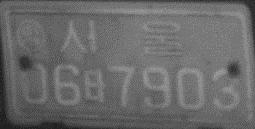0: (175, 66, 205, 110), (21, 60, 48, 105)
3: (211, 67, 241, 113)
6: (52, 63, 81, 107)
7: (108, 64, 134, 108)
9: (142, 65, 172, 110)
서울_D: (59, 18, 183, 57)
영: (14, 18, 47, 54)
타: (82, 68, 105, 103)
